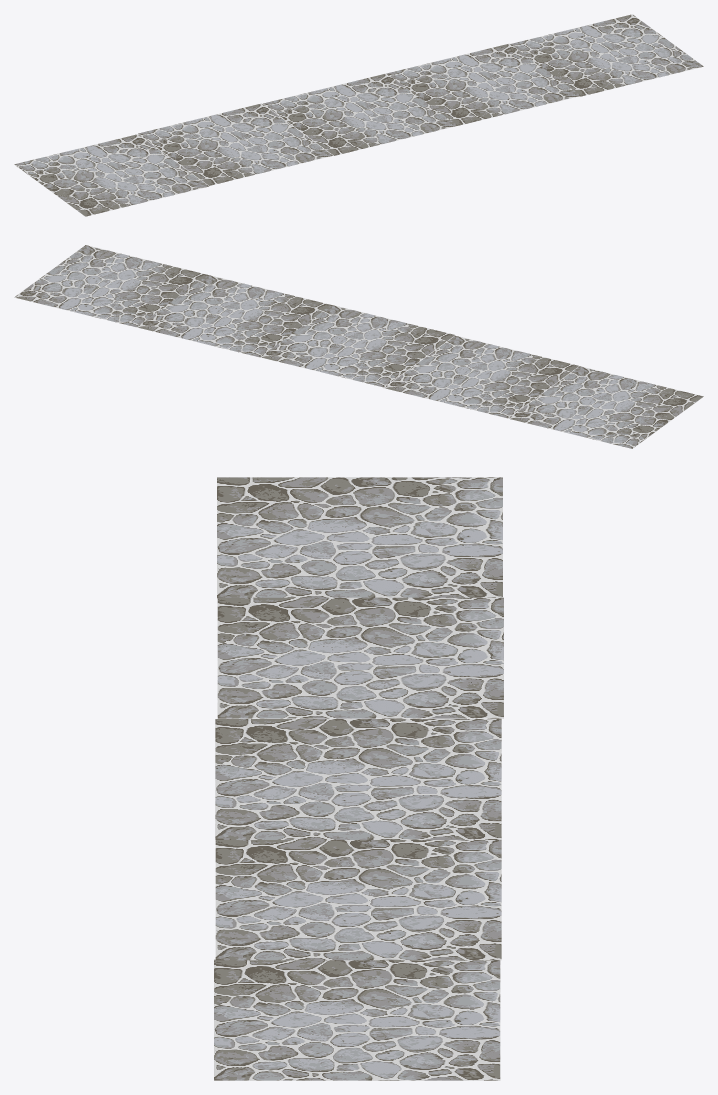
File: road.fbx
3 renders of one model, top to bottom at view 1: azimuth 30°, elevation 25°; view 2: azimuth 150°, elevation 25°; view 3: azimuth 270°, elevation 25°, orthographic. The views are drawn at different scales.
Parts seen in each view (by area): view 1: Plane.004; view 2: Plane.004; view 3: Plane.004.
Boxes of the visible parts, x1,y1,x2,y2 form: Plane.004: [14, 14, 703, 216]; Plane.004: [14, 245, 703, 448]; Plane.004: [214, 477, 503, 1080].
Bounding box in the file's own units: 997 × 0.8122 × 203.
